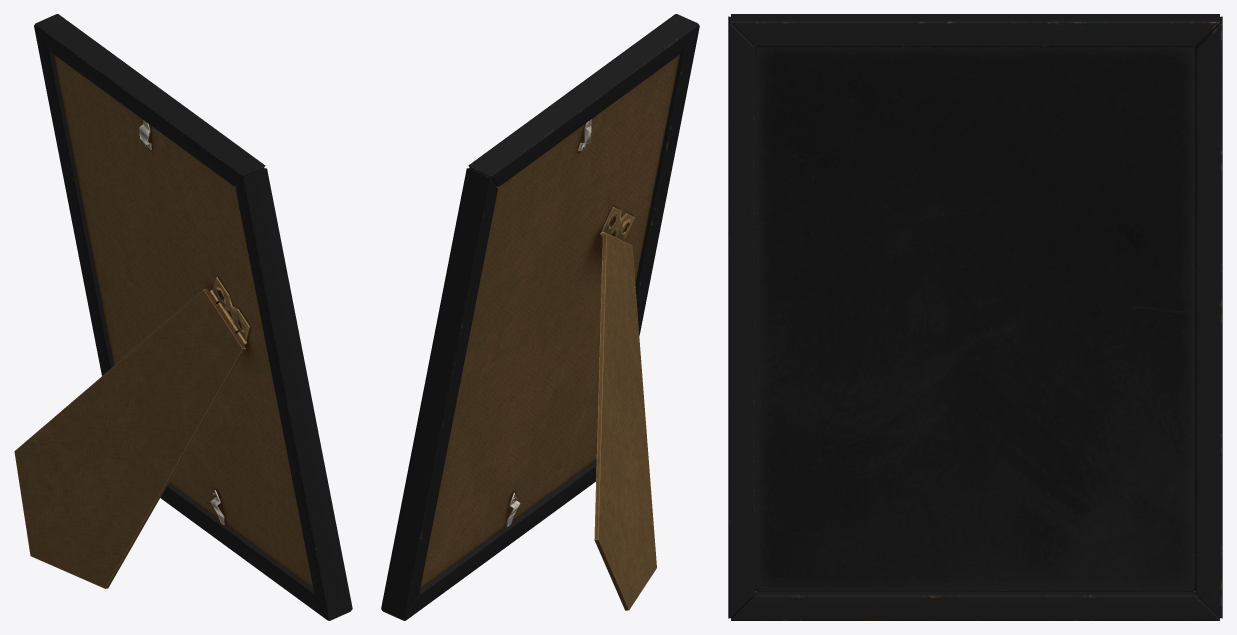
File: standing_picture_frame_01_lod2.glb
3 renders of one model, left to right at view 1: azimuth 30°, elevation 25°; view 2: azimuth 150°, elevation 25°; view 3: azimuth 270°, elevation 25°, orthographic. The views are drawn at different scales.
Parts seen in each view (by area): view 1: standing_picture_frame_01; view 2: standing_picture_frame_01; view 3: standing_picture_frame_01.
Part boxes in pixels (<box>): standing_picture_frame_01: <box>14,14,352,620</box>; standing_picture_frame_01: <box>381,14,699,620</box>; standing_picture_frame_01: <box>728,14,1222,620</box>.
Size of the model in its own units: 0.1003 by 0.2497 by 0.2008.
3 materials, 3 textured.
